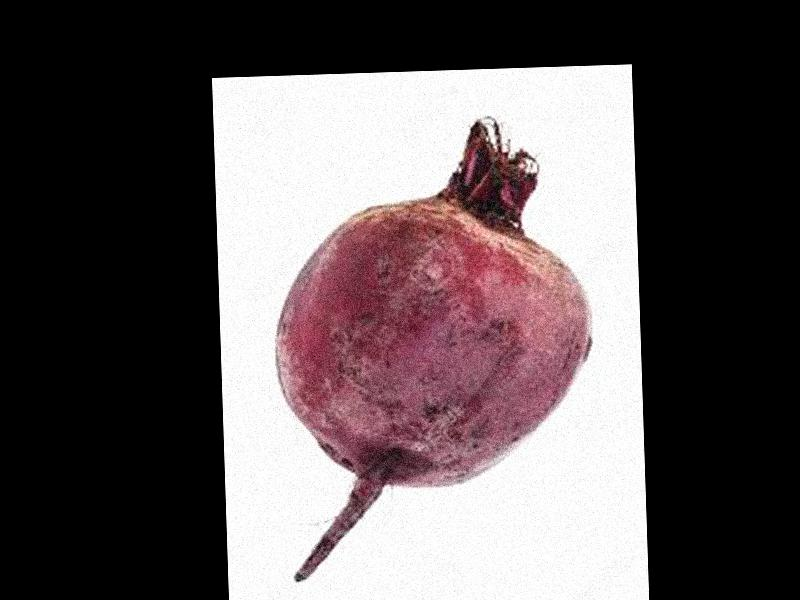Beet: (267, 114, 597, 581)
